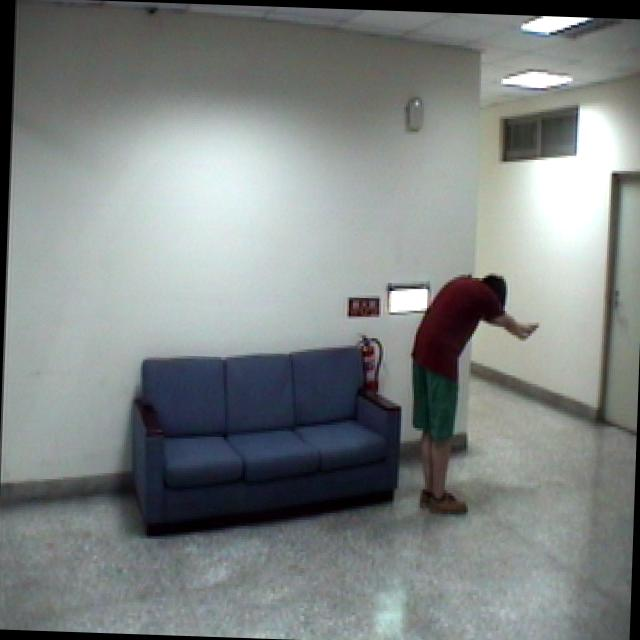bend: (400, 266, 551, 524)
